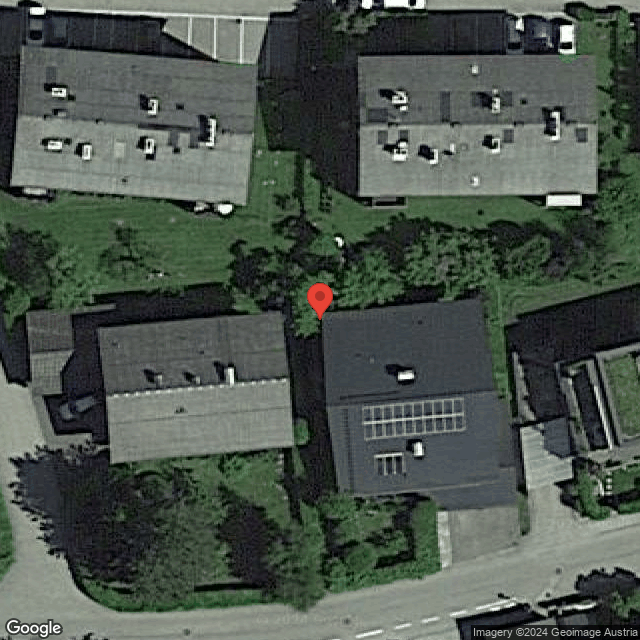obstacles: (198, 117, 216, 148), (548, 110, 562, 142), (392, 140, 409, 162), (391, 90, 408, 112), (396, 368, 418, 384), (222, 367, 236, 387), (412, 441, 427, 459), (490, 89, 500, 115), (489, 137, 501, 157), (48, 140, 66, 152), (154, 373, 167, 388), (52, 87, 68, 99), (144, 138, 155, 155), (428, 148, 439, 164), (148, 99, 158, 116), (470, 174, 482, 188), (470, 64, 481, 78), (82, 145, 92, 160), (191, 376, 203, 386), (448, 142, 457, 155)
panels: (360, 397, 466, 441), (373, 451, 407, 477)
roof: (10, 47, 258, 204), (322, 300, 500, 496), (357, 55, 596, 193), (97, 313, 295, 464)
